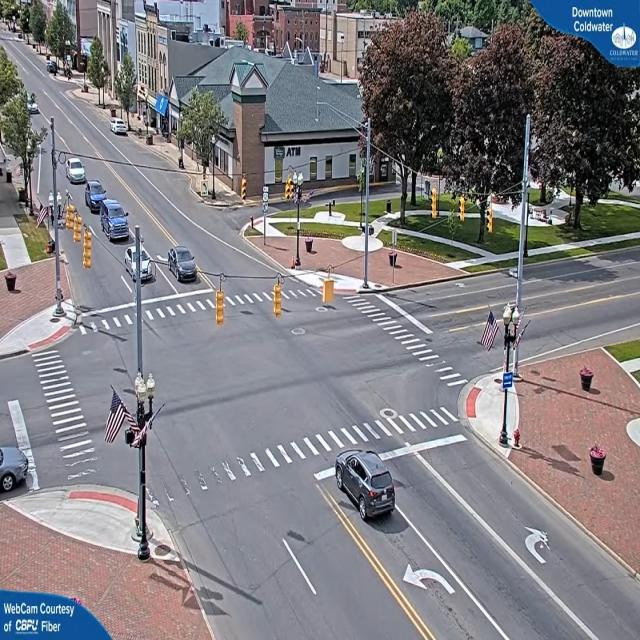car: (338, 452, 400, 523), (0, 408, 34, 497), (101, 202, 130, 242), (167, 248, 199, 282), (131, 248, 155, 283), (85, 180, 106, 213), (65, 158, 85, 185), (112, 121, 130, 138)
